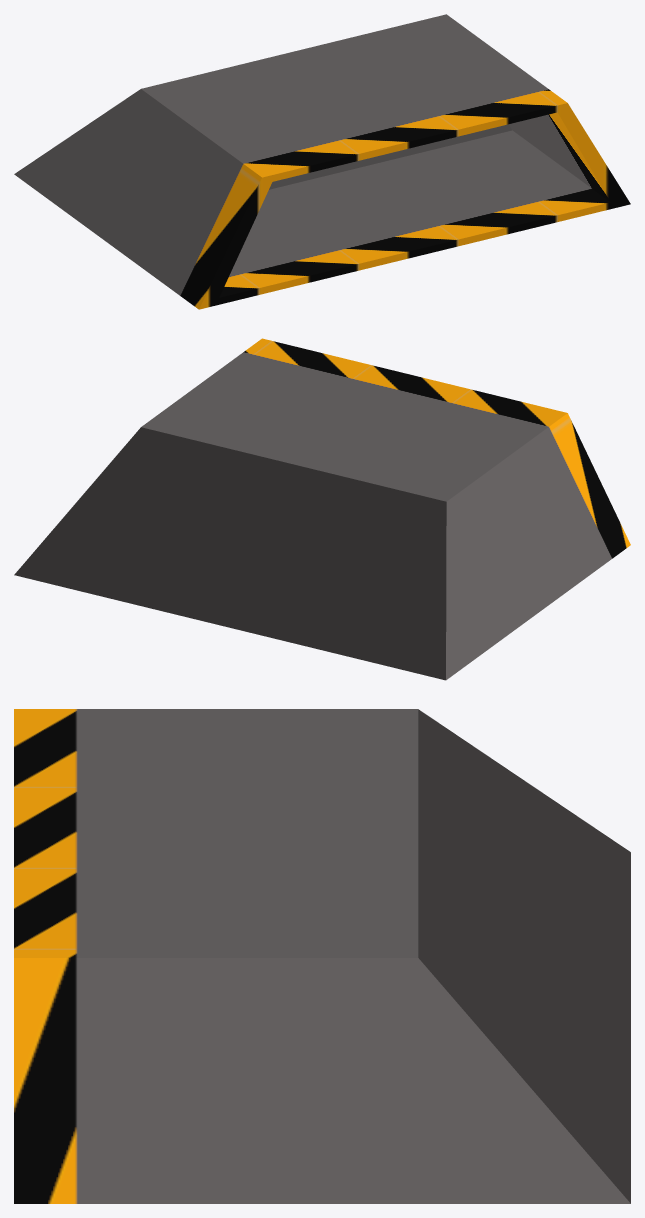
The model's file is Lanza Minas.FBX.
3 renders of one model, top to bottom at view 1: azimuth 30°, elevation 25°; view 2: azimuth 150°, elevation 25°; view 3: azimuth 270°, elevation 25°, orthographic. The views are drawn at different scales.
Visible parts, largest first — view 1: Base; view 2: Base; view 3: Base.
Part boxes in pixels (left/top/right/bottom): Base: left=14, top=14, right=630, bottom=309; Base: left=14, top=338, right=630, bottom=680; Base: left=14, top=709, right=630, bottom=1203.
Bounding box in the file's own units: 13.39 × 3.46 × 9.93.
Materials: 1 (1 with a texture image).
